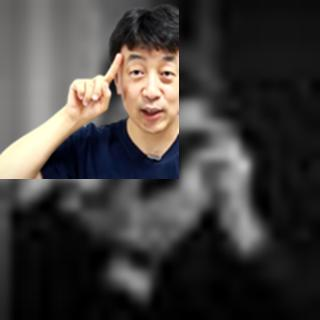IRRITATED: (62, 50, 125, 125)
